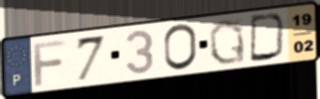3: (123, 28, 156, 78)
7: (72, 34, 109, 83)
D: (248, 12, 288, 64)
F: (31, 38, 69, 88)
O: (162, 22, 200, 72)
Q: (207, 17, 248, 67)
